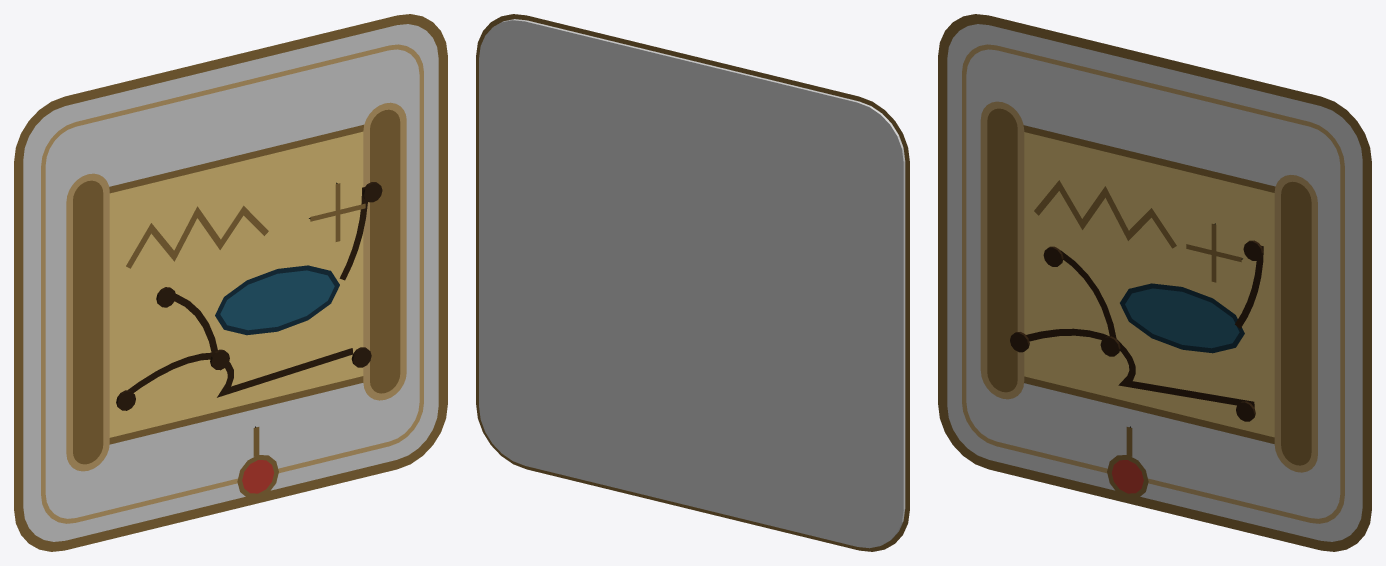
The model's file is obj-karta-torgovykh-putey.glb.
3 views of the same model, side by side, from view 1: azimuth 30°, elevation 25°; view 2: azimuth 150°, elevation 25°; view 3: azimuth 330°, elevation 25° (orthographic).
Visible parts, largest first — view 1: obj-karta-torgovykh-putey; view 2: obj-karta-torgovykh-putey; view 3: obj-karta-torgovykh-putey.
Boxes of the visible parts, bbox=[...] form: obj-karta-torgovykh-putey: bbox=[14, 14, 447, 551]; obj-karta-torgovykh-putey: bbox=[476, 14, 909, 551]; obj-karta-torgovykh-putey: bbox=[938, 14, 1371, 551].
Size of the model in its own units: 0.3917 by 0.3917 by 0.0451.
